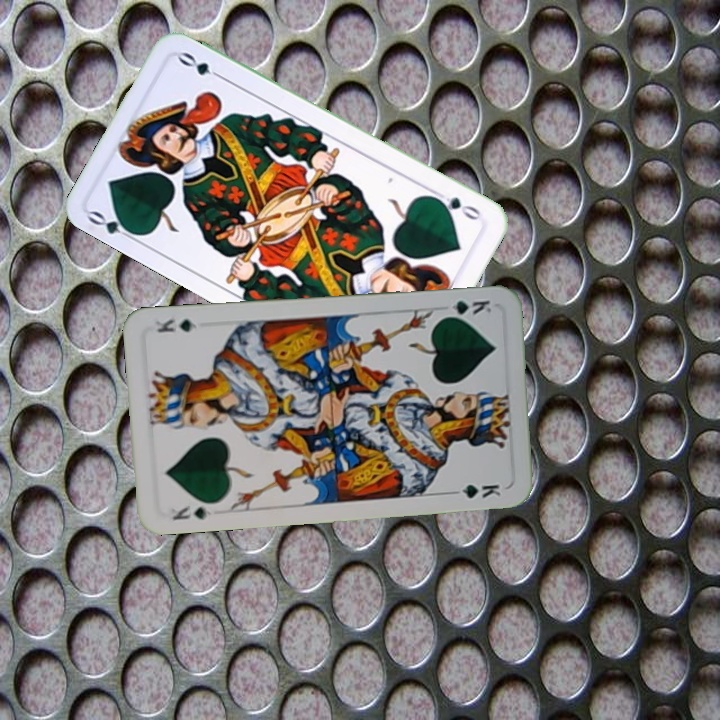GK: (437, 296, 494, 320), (167, 501, 214, 523)
GO: (84, 206, 142, 245), (429, 187, 483, 223)
